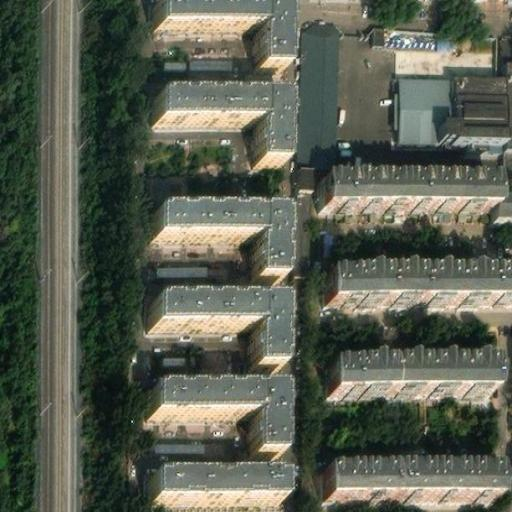building: (155, 91, 285, 160), (147, 373, 278, 441), (149, 298, 280, 366), (154, 207, 285, 275), (442, 64, 512, 150), (322, 268, 512, 299), (299, 26, 336, 181), (319, 173, 492, 205), (324, 467, 496, 497), (329, 358, 494, 389), (396, 67, 454, 135), (149, 470, 278, 498), (371, 24, 450, 51), (152, 438, 226, 460), (156, 261, 207, 280), (186, 55, 235, 74), (493, 176, 512, 220), (502, 150, 512, 176)
